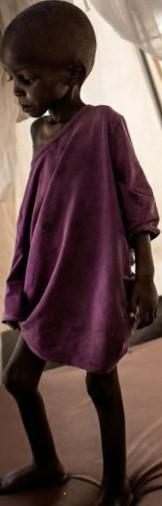Stunting: (0, 2, 114, 133)
